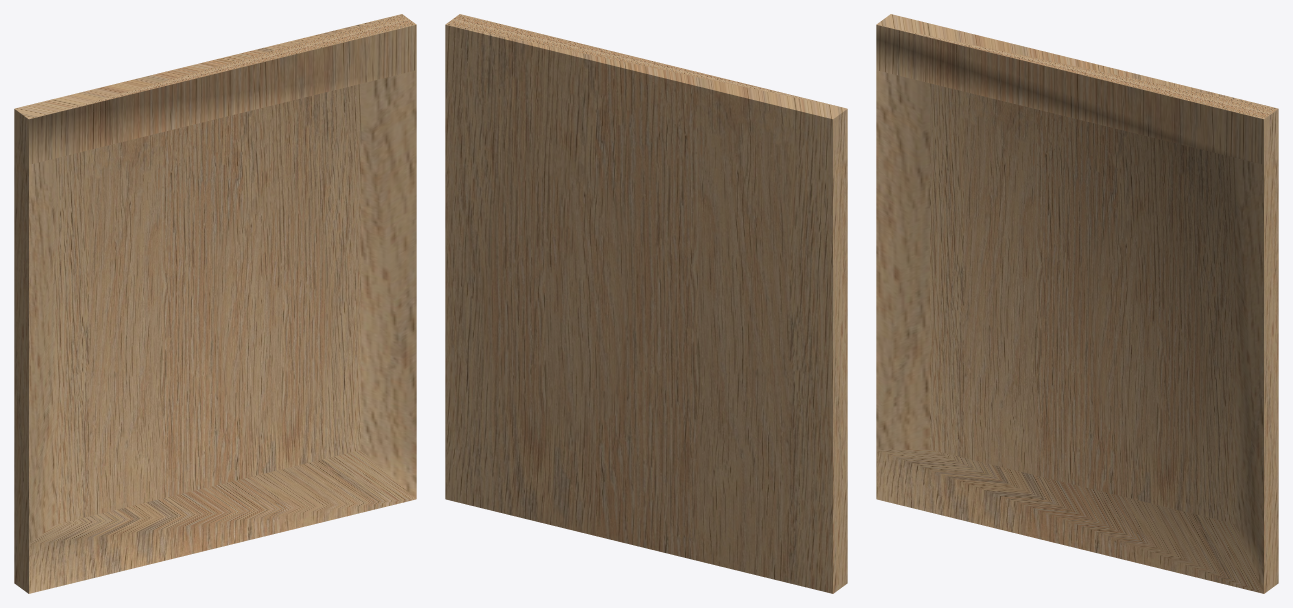
File: Quadro2.fbx
3 renders of one model, left to right at view 1: azimuth 30°, elevation 25°; view 2: azimuth 150°, elevation 25°; view 3: azimuth 330°, elevation 25°, orthographic.
Parts seen in each view (by area): view 1: Cube; view 2: Cube; view 3: Cube.
Boxes of the visible parts, left/top/right/bottom form: Cube: left=14, top=14, right=416, bottom=593; Cube: left=445, top=14, right=847, bottom=593; Cube: left=876, top=14, right=1278, bottom=593.
Size of the model in its own units: 1.54 by 1.8 by 0.1006.
Materials: 1 (1 with a texture image).
